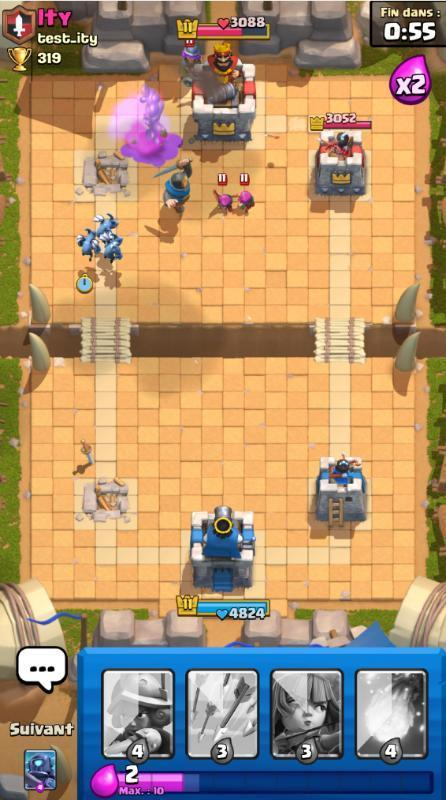enemy_archers: (208, 174, 234, 213), (233, 176, 258, 212)
enemy_musketeer: (176, 36, 202, 88)
player_knight: (154, 158, 199, 214)
player_minions: (98, 230, 126, 262), (74, 225, 102, 256), (90, 208, 120, 236)
